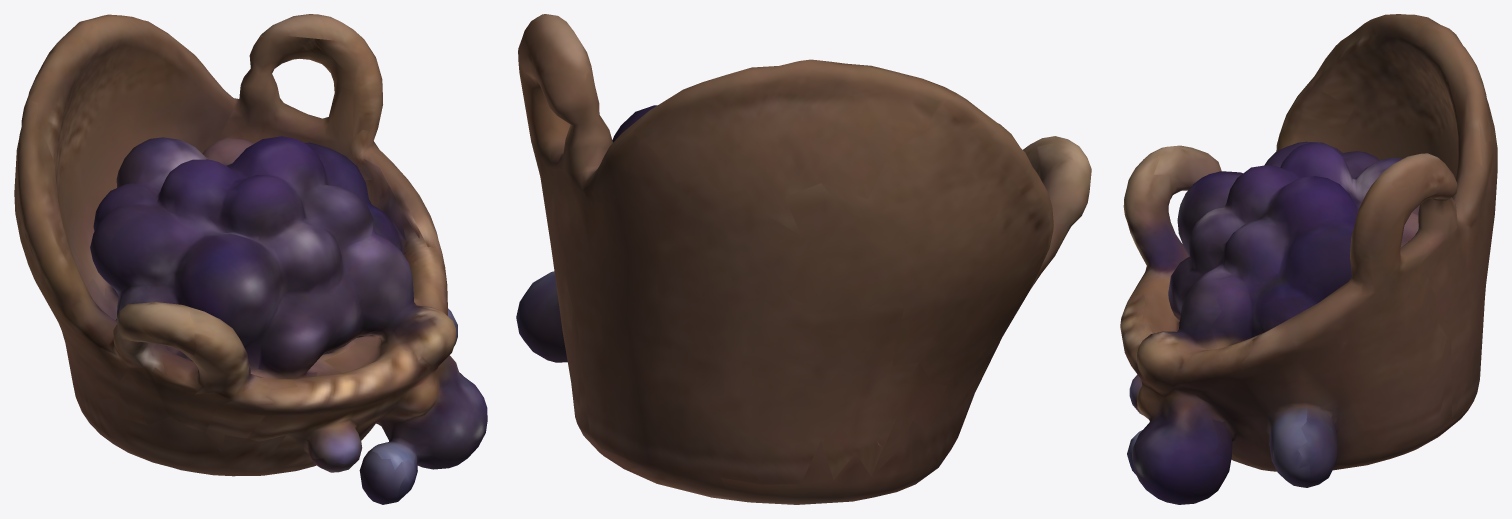
File: v04_cesto_acai.glb
The picture shows the model from 3 angles, left to right: view 1: azimuth 30°, elevation 25°; view 2: azimuth 150°, elevation 25°; view 3: azimuth 270°, elevation 25°; orthographic projection. The views are drawn at different scales.
Visible parts, largest first — view 1: v04_cesto_acai; view 2: v04_cesto_acai; view 3: v04_cesto_acai.
Boxes of the visible parts, left/top/right/bottom form: v04_cesto_acai: left=14, top=14, right=487, bottom=504; v04_cesto_acai: left=516, top=14, right=1091, bottom=504; v04_cesto_acai: left=1120, top=14, right=1497, bottom=504.
Size of the model in its own units: 0.4319 by 0.3972 by 0.3534.
Materials: 1 (1 with a texture image).
